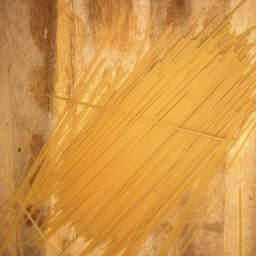Penne pasta: (25, 7, 255, 256), (75, 39, 256, 232), (12, 120, 175, 256), (120, 3, 256, 136)
